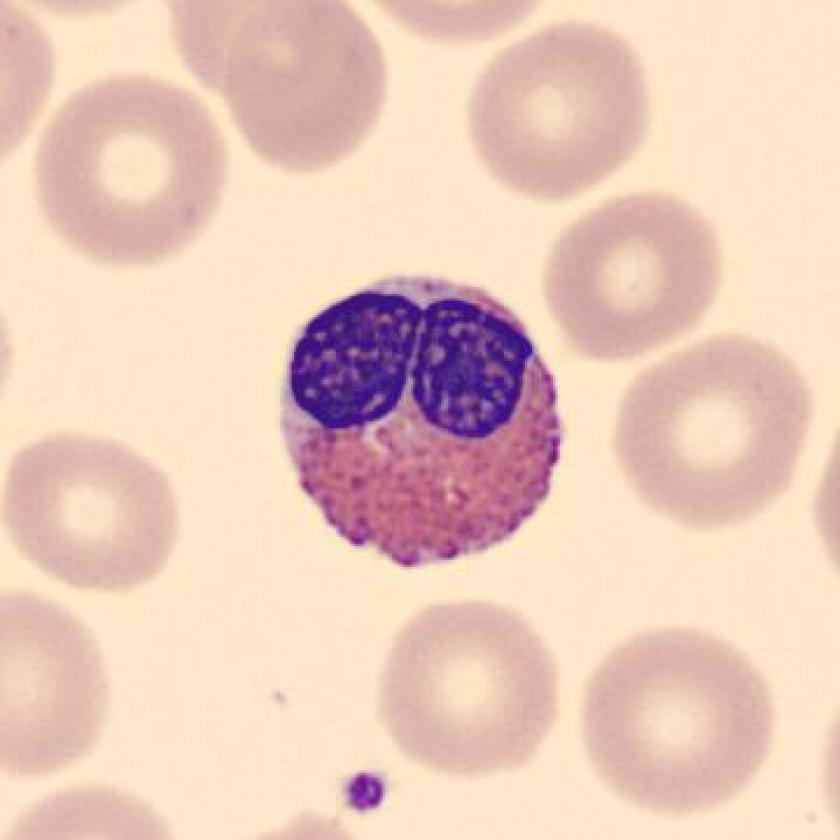eosinophil: (262, 260, 580, 582)
